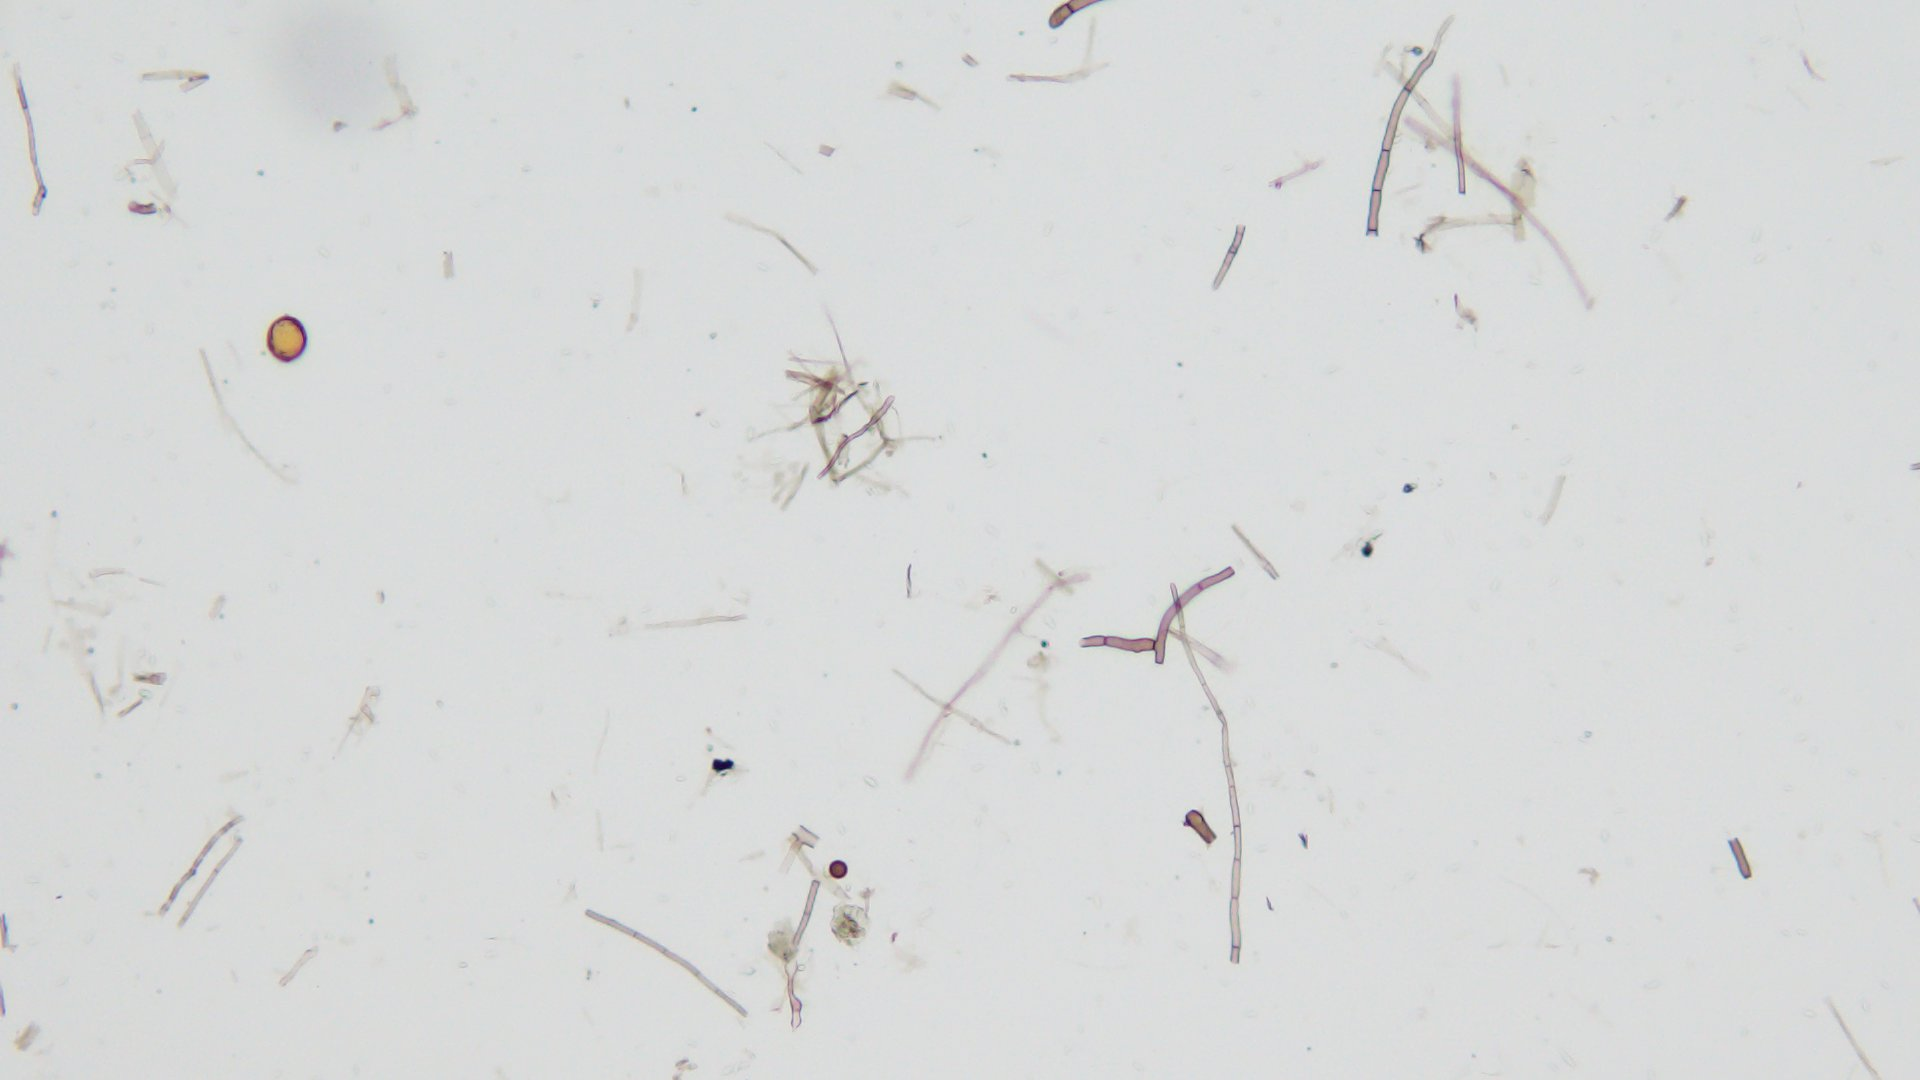shs_spore: (828, 860, 851, 881)
xb_spore: (265, 315, 305, 363)
